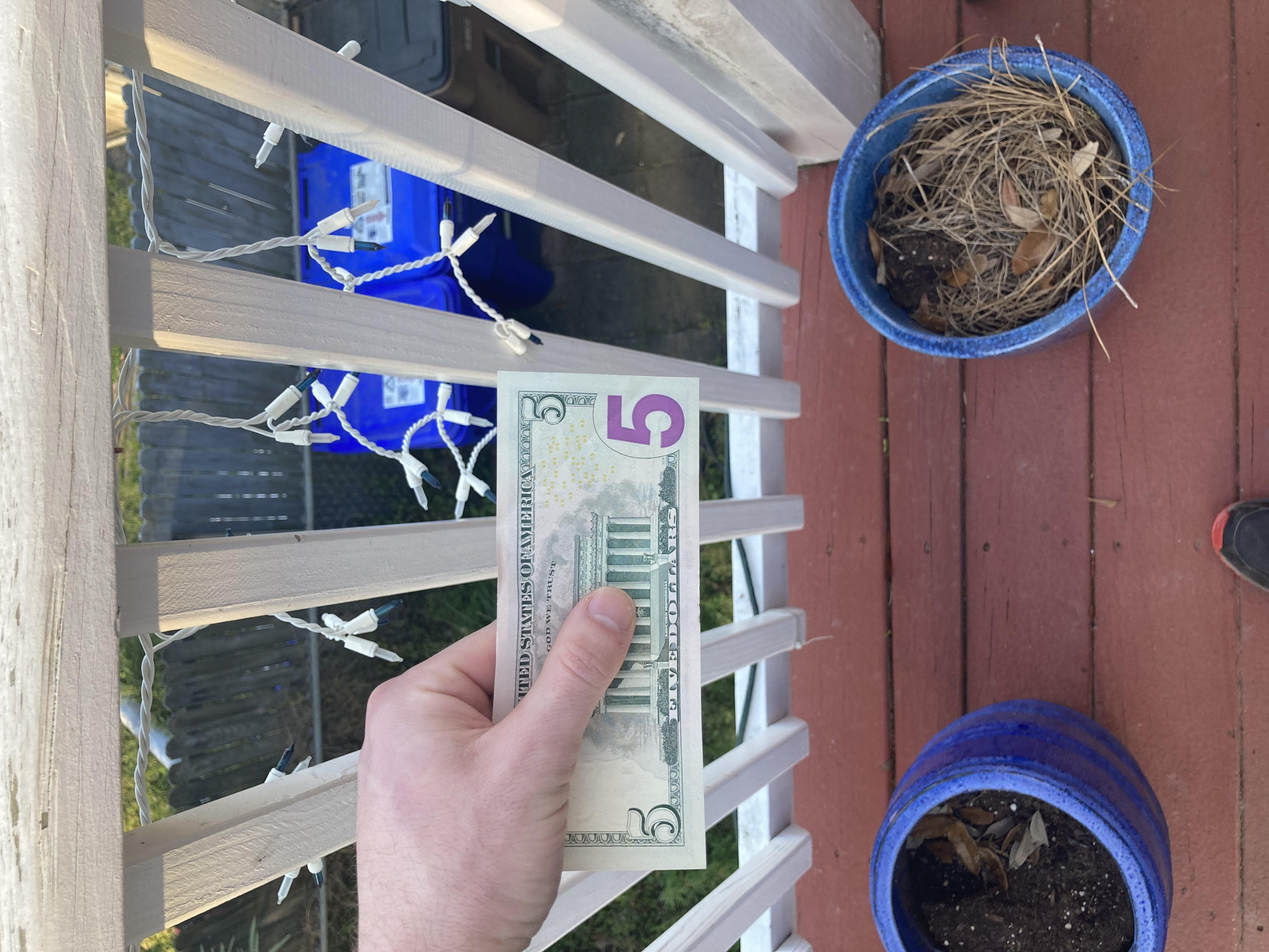five-back: (110, 374, 772, 525)
